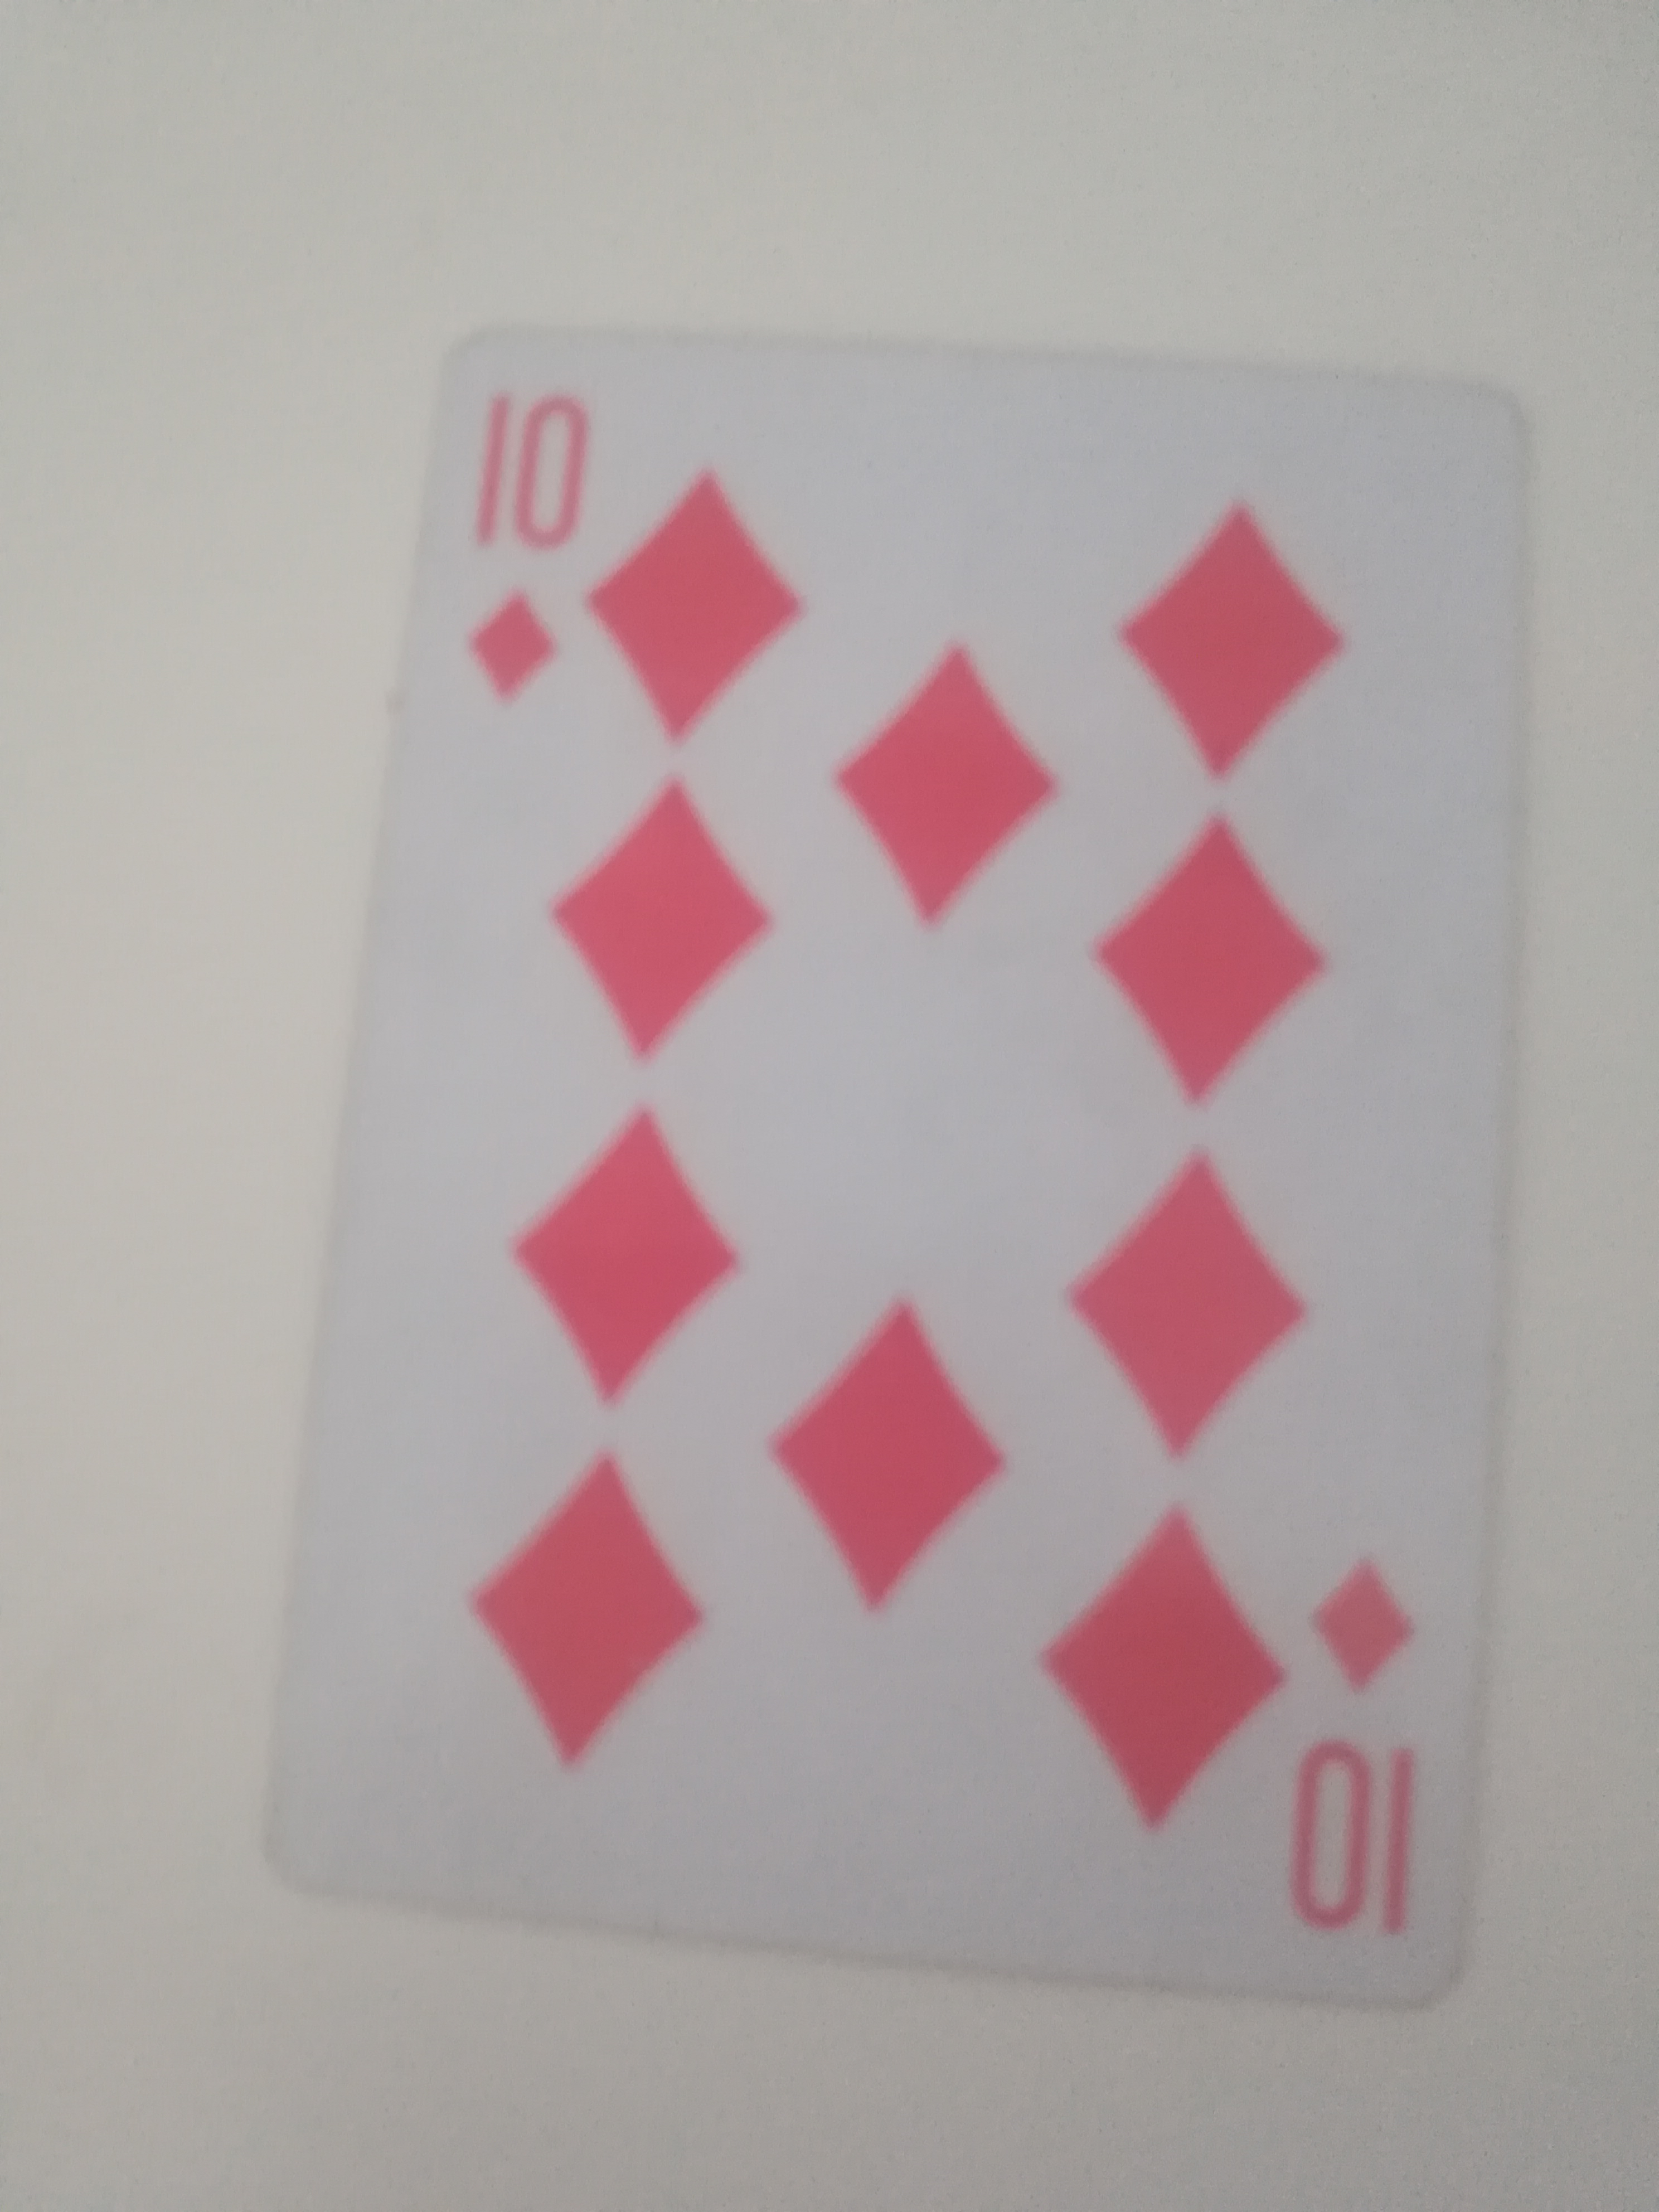10D: (284, 336, 1544, 1998)
